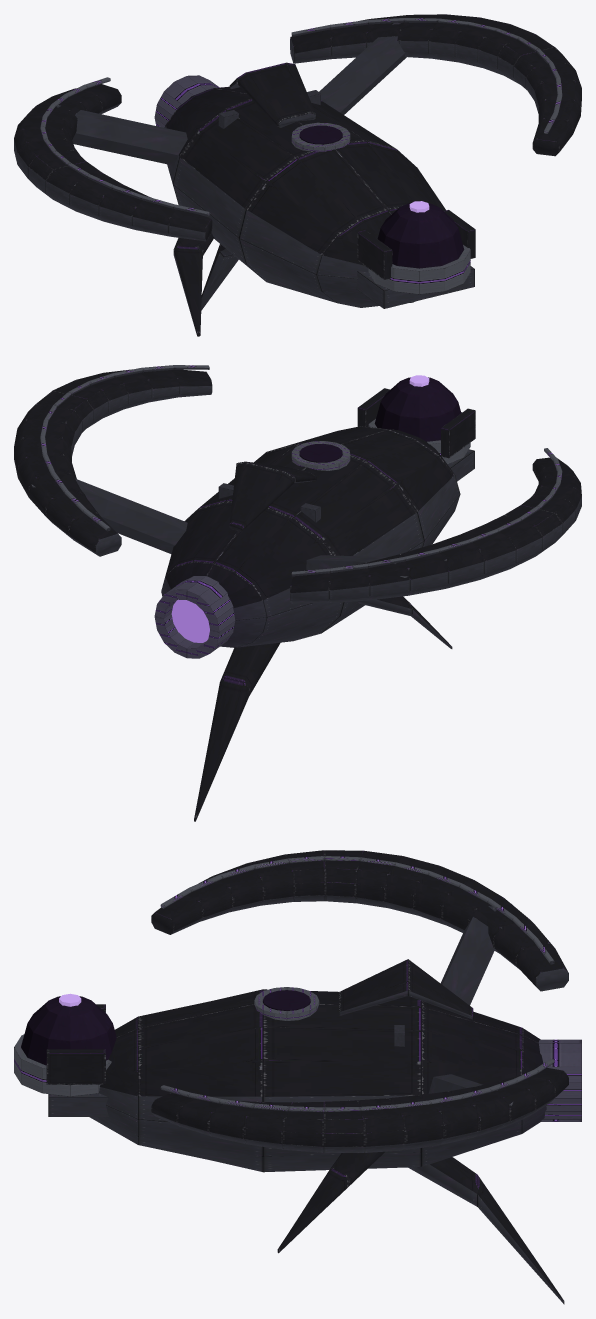
File: pioneer-eris-l07-shield.glb
The picture shows the model from 3 angles, top to bottom: view 1: azimuth 30°, elevation 25°; view 2: azimuth 150°, elevation 25°; view 3: azimuth 270°, elevation 25°; orthographic projection. The views are drawn at different scales.
Visible parts, largest first — view 1: Drone; view 2: Drone; view 3: Drone.
Part boxes in pixels (<box>): Drone: <box>14,14,581,336</box>; Drone: <box>14,365,581,821</box>; Drone: <box>14,850,581,1304</box>.
Size of the model in its own units: 1.51 by 0.8489 by 1.31.
Materials: 3 (3 with a texture image).
